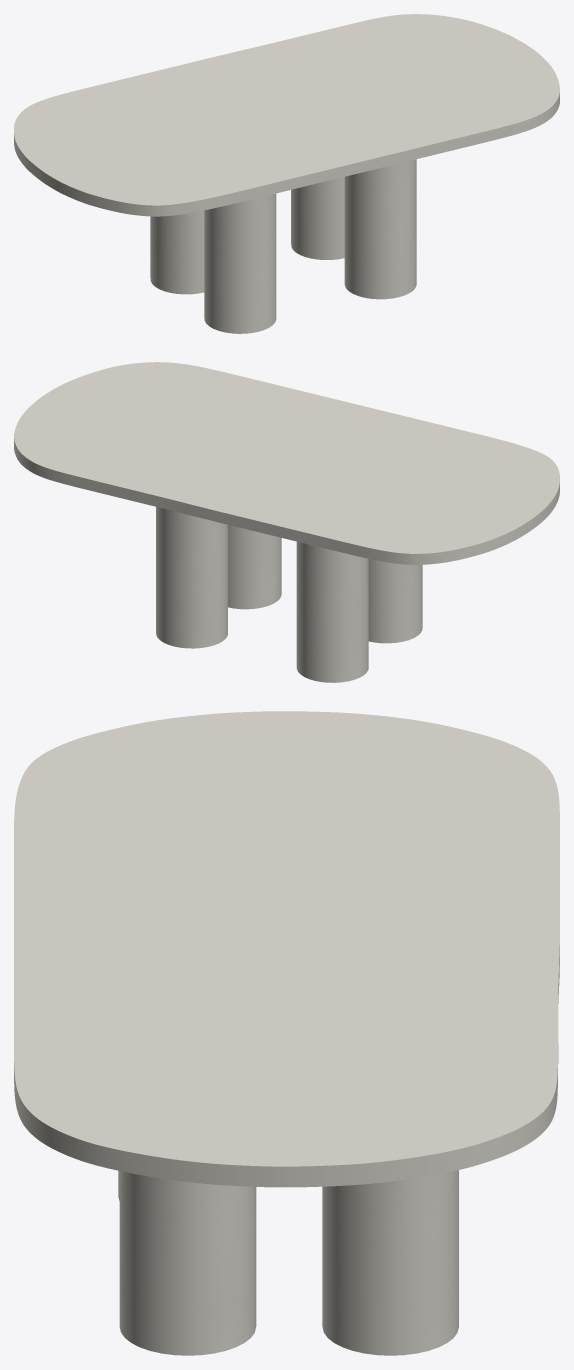
The model's file is pale_oval_standard_grove.glb.
The picture shows the model from 3 angles, top to bottom: view 1: azimuth 30°, elevation 25°; view 2: azimuth 150°, elevation 25°; view 3: azimuth 270°, elevation 25°; orthographic projection. The views are drawn at different scales.
Parts seen in each view (by area): view 1: standard_oval, grove; view 2: standard_oval, grove; view 3: standard_oval, grove.
Part boxes in pixels (bbox=[...]): standard_oval: bbox=[14, 14, 559, 216]; grove: bbox=[150, 159, 416, 333]; standard_oval: bbox=[14, 362, 559, 564]; grove: bbox=[156, 507, 422, 682]; standard_oval: bbox=[14, 711, 559, 1187]; grove: bbox=[118, 1170, 458, 1355].
Bounding box in the file's own units: 7.5 × 2.5 × 3.8.
1 material, 1 textured.
